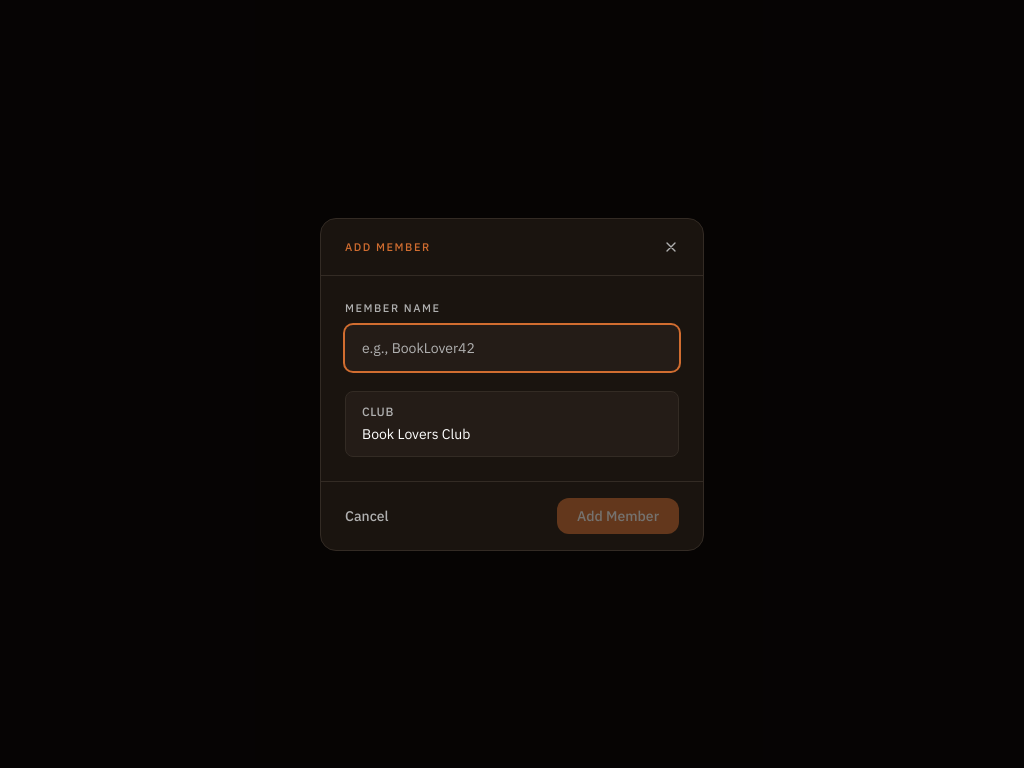
MemberModal › Error Handling › shows error message in modal on API failure
The width and height of the screenshot is (1024, 768).
Type "Test" into the field with placeholder "e.g., BookLover42". click: (512, 348)
box: [345,324,679,370]
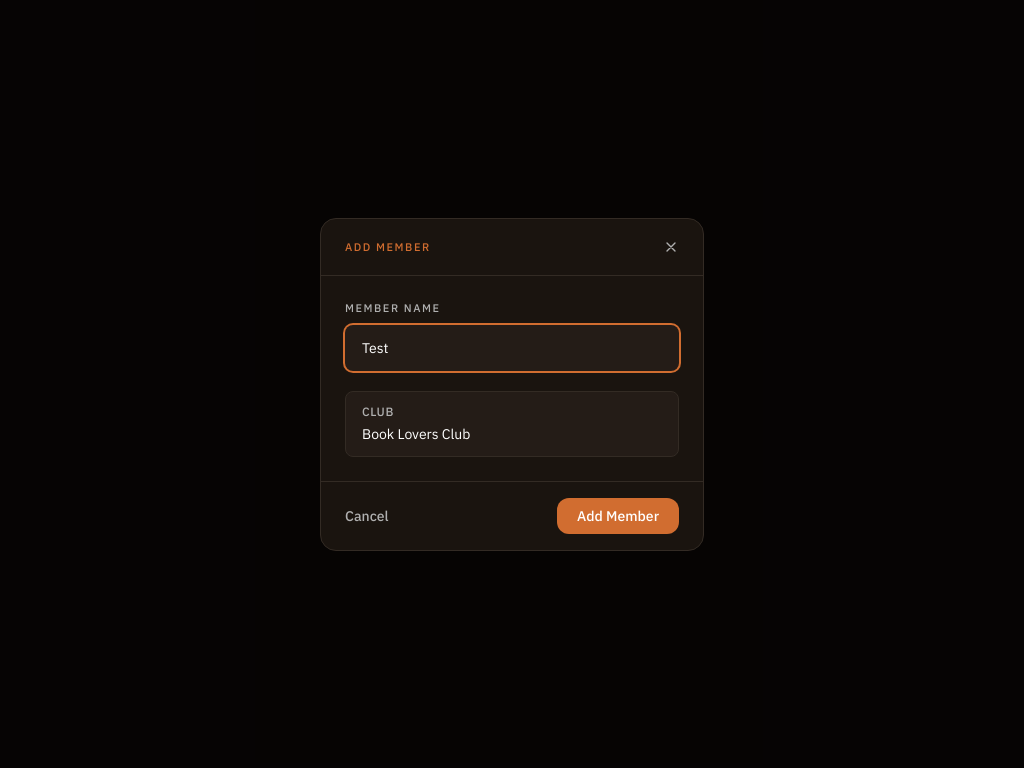
Click the button "Add Member". click: (618, 516)
box: [557,498,679,534]
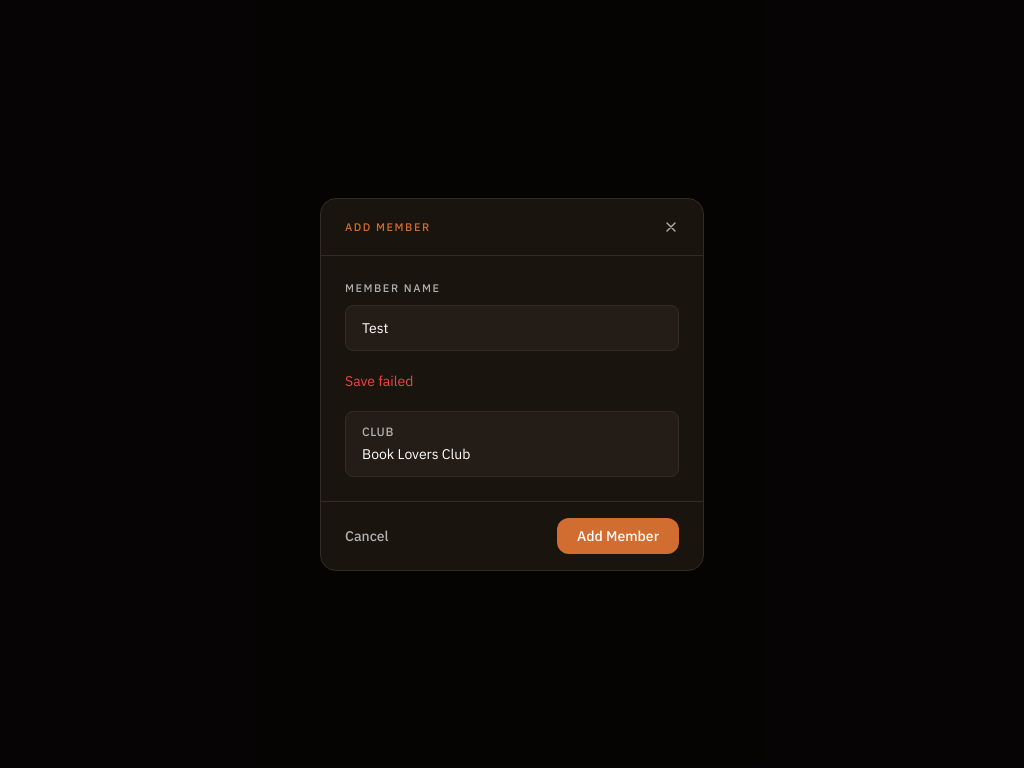
Check: the text "Save failed" is shown, box [345,372,413,390]
